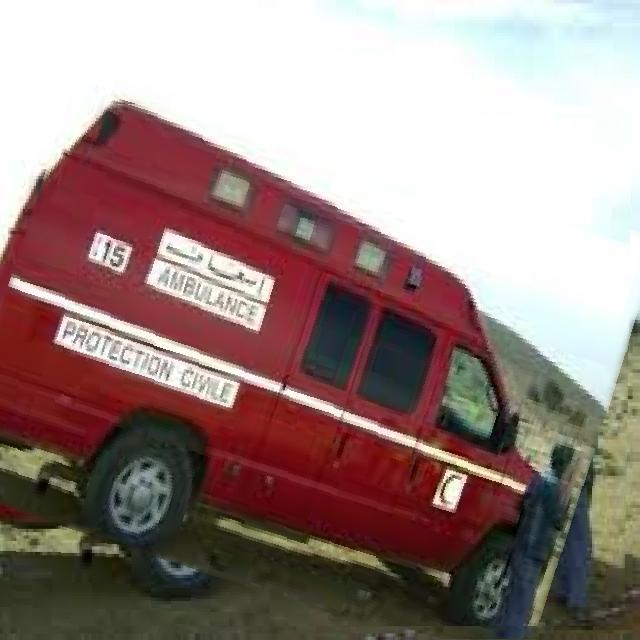ambulance: (0, 101, 632, 626)
